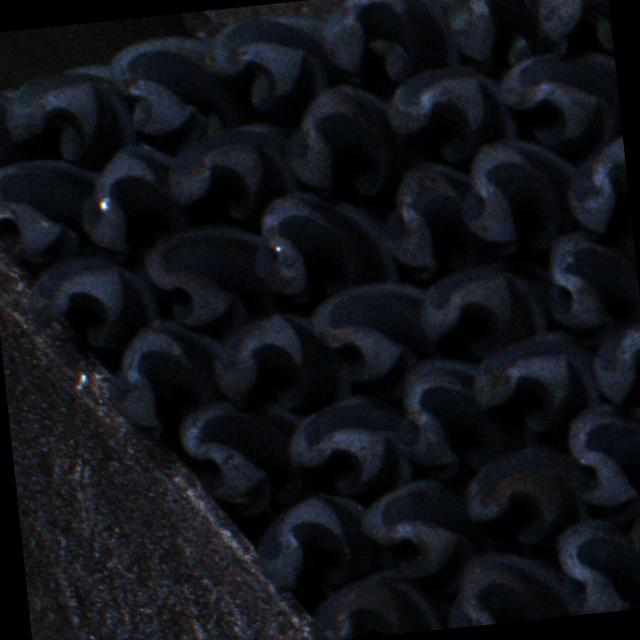tool_b: (388, 348, 537, 480), (248, 180, 402, 302), (173, 392, 312, 522), (106, 314, 235, 446), (456, 132, 588, 260), (108, 29, 244, 150), (250, 490, 396, 602), (208, 306, 354, 418), (360, 472, 486, 596), (470, 328, 608, 441), (137, 220, 273, 334), (276, 78, 400, 202), (382, 57, 523, 166), (162, 116, 304, 224), (302, 274, 438, 386), (284, 389, 418, 500), (198, 12, 338, 118), (456, 442, 590, 552), (22, 251, 161, 357), (2, 60, 138, 167), (416, 259, 556, 360), (492, 44, 622, 152), (316, 0, 468, 90), (72, 138, 189, 254), (371, 157, 480, 280), (0, 156, 107, 268), (539, 228, 640, 339), (440, 543, 575, 626), (305, 565, 448, 640), (559, 401, 640, 516), (548, 516, 640, 617), (444, 0, 571, 68), (562, 135, 632, 241), (589, 320, 640, 407), (534, 0, 613, 56), (0, 79, 25, 172), (622, 484, 640, 604)
